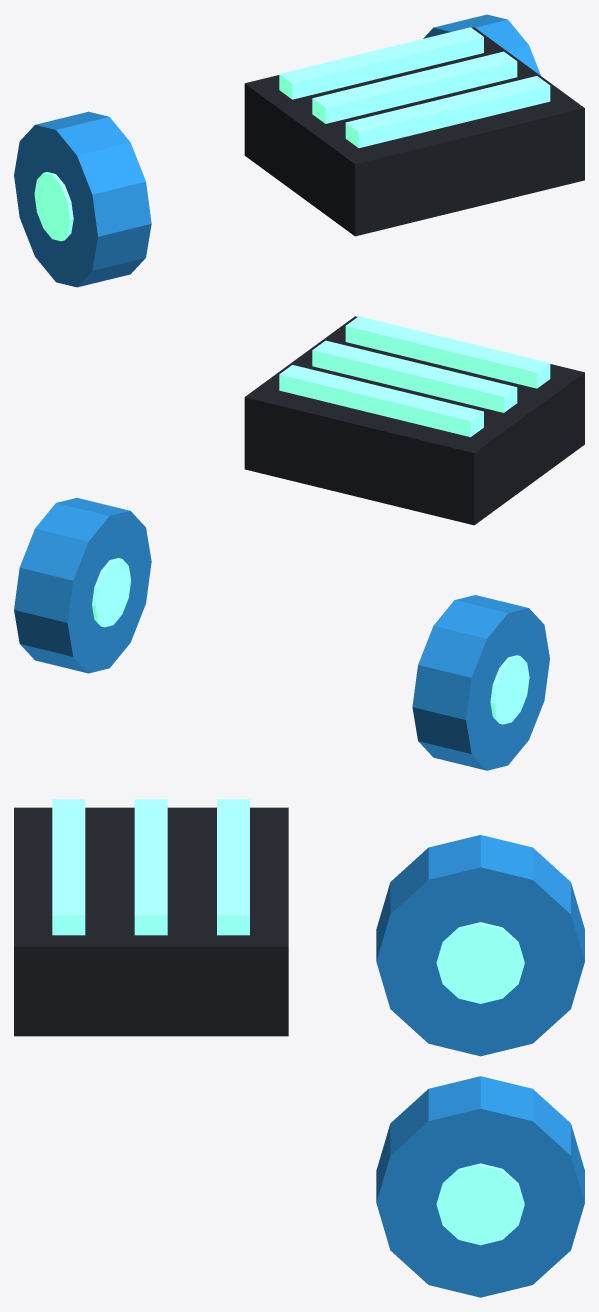
Rendered from upgrade-e_assist.glb.
3 renders of one model, top to bottom at view 1: azimuth 30°, elevation 25°; view 2: azimuth 150°, elevation 25°; view 3: azimuth 270°, elevation 25°, orthographic. The views are drawn at different scales.
Visible parts, largest first — view 1: upgrade-e_assist; view 2: upgrade-e_assist; view 3: upgrade-e_assist.
Part boxes in pixels (bbox=[...]): upgrade-e_assist: bbox=[14, 14, 584, 287]; upgrade-e_assist: bbox=[14, 316, 584, 770]; upgrade-e_assist: bbox=[14, 799, 584, 1297].
Bounding box in the file's own units: 1.2 × 0.61 × 1.04.
